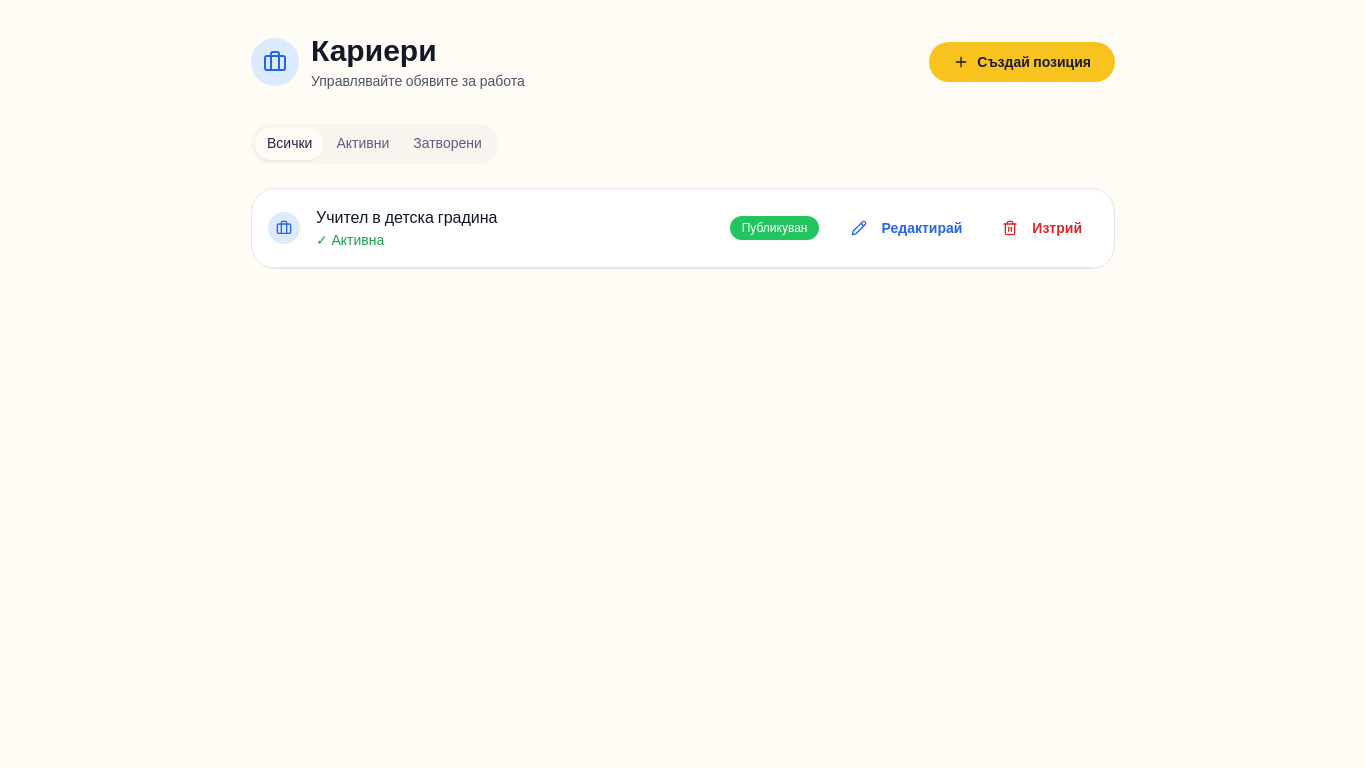
JobsList › opens delete dialog on delete button click
Step 1. Click the button with aria-label "Изтрий: Учител в детска градина" → (1042, 228), box [986,210,1098,246]
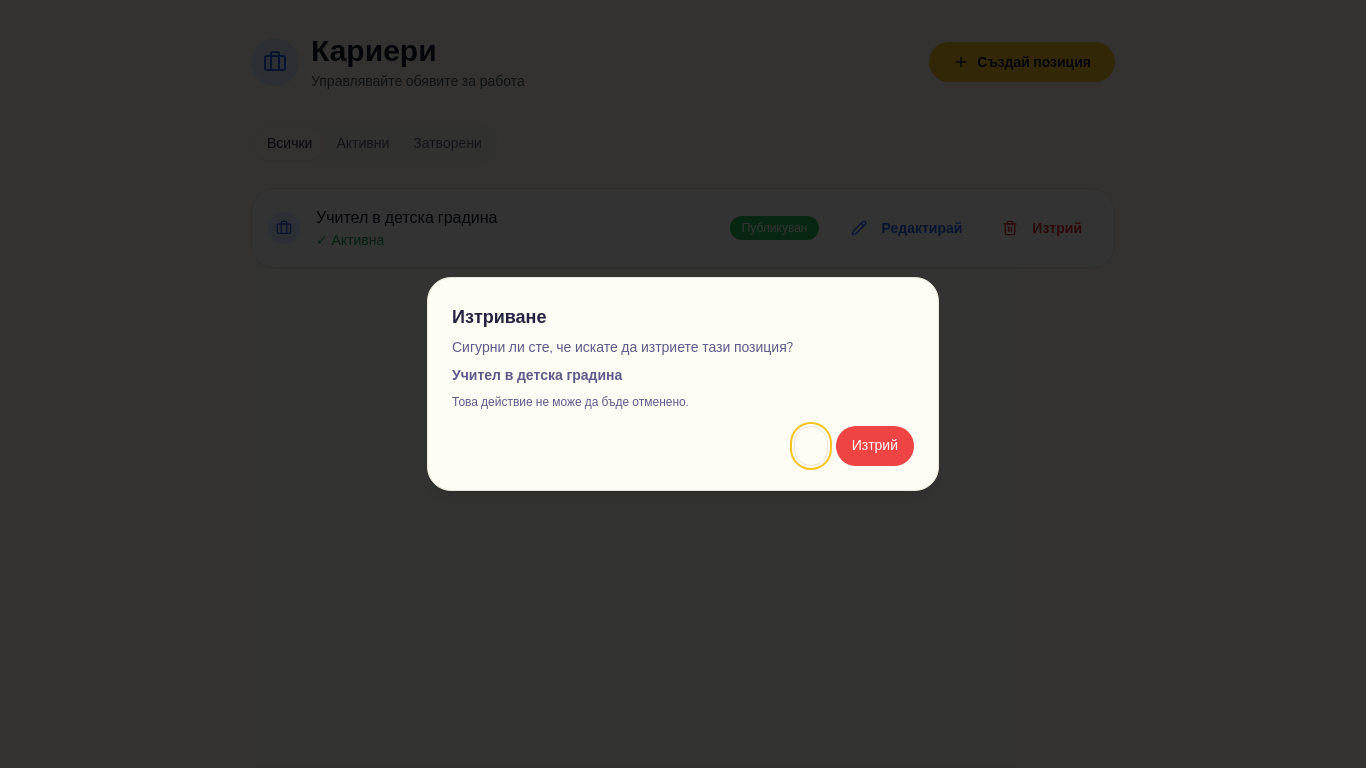
Result: the text "Сигурни ли сте" is shown at [452,338,793,357]
